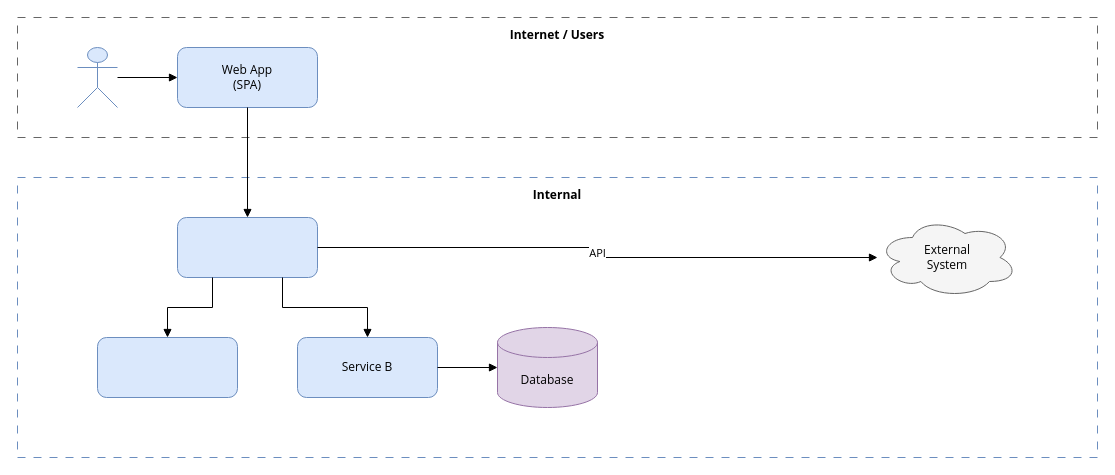
This 1115x475 diagram has some shape labels left out. The shapes that lost their labels are listed below. From the top down, each one's centre as x and y in pixels, then its label:
At [97,77]: "User".
At [247,247]: "API Gateway".
At [167,367]: "Service A".
